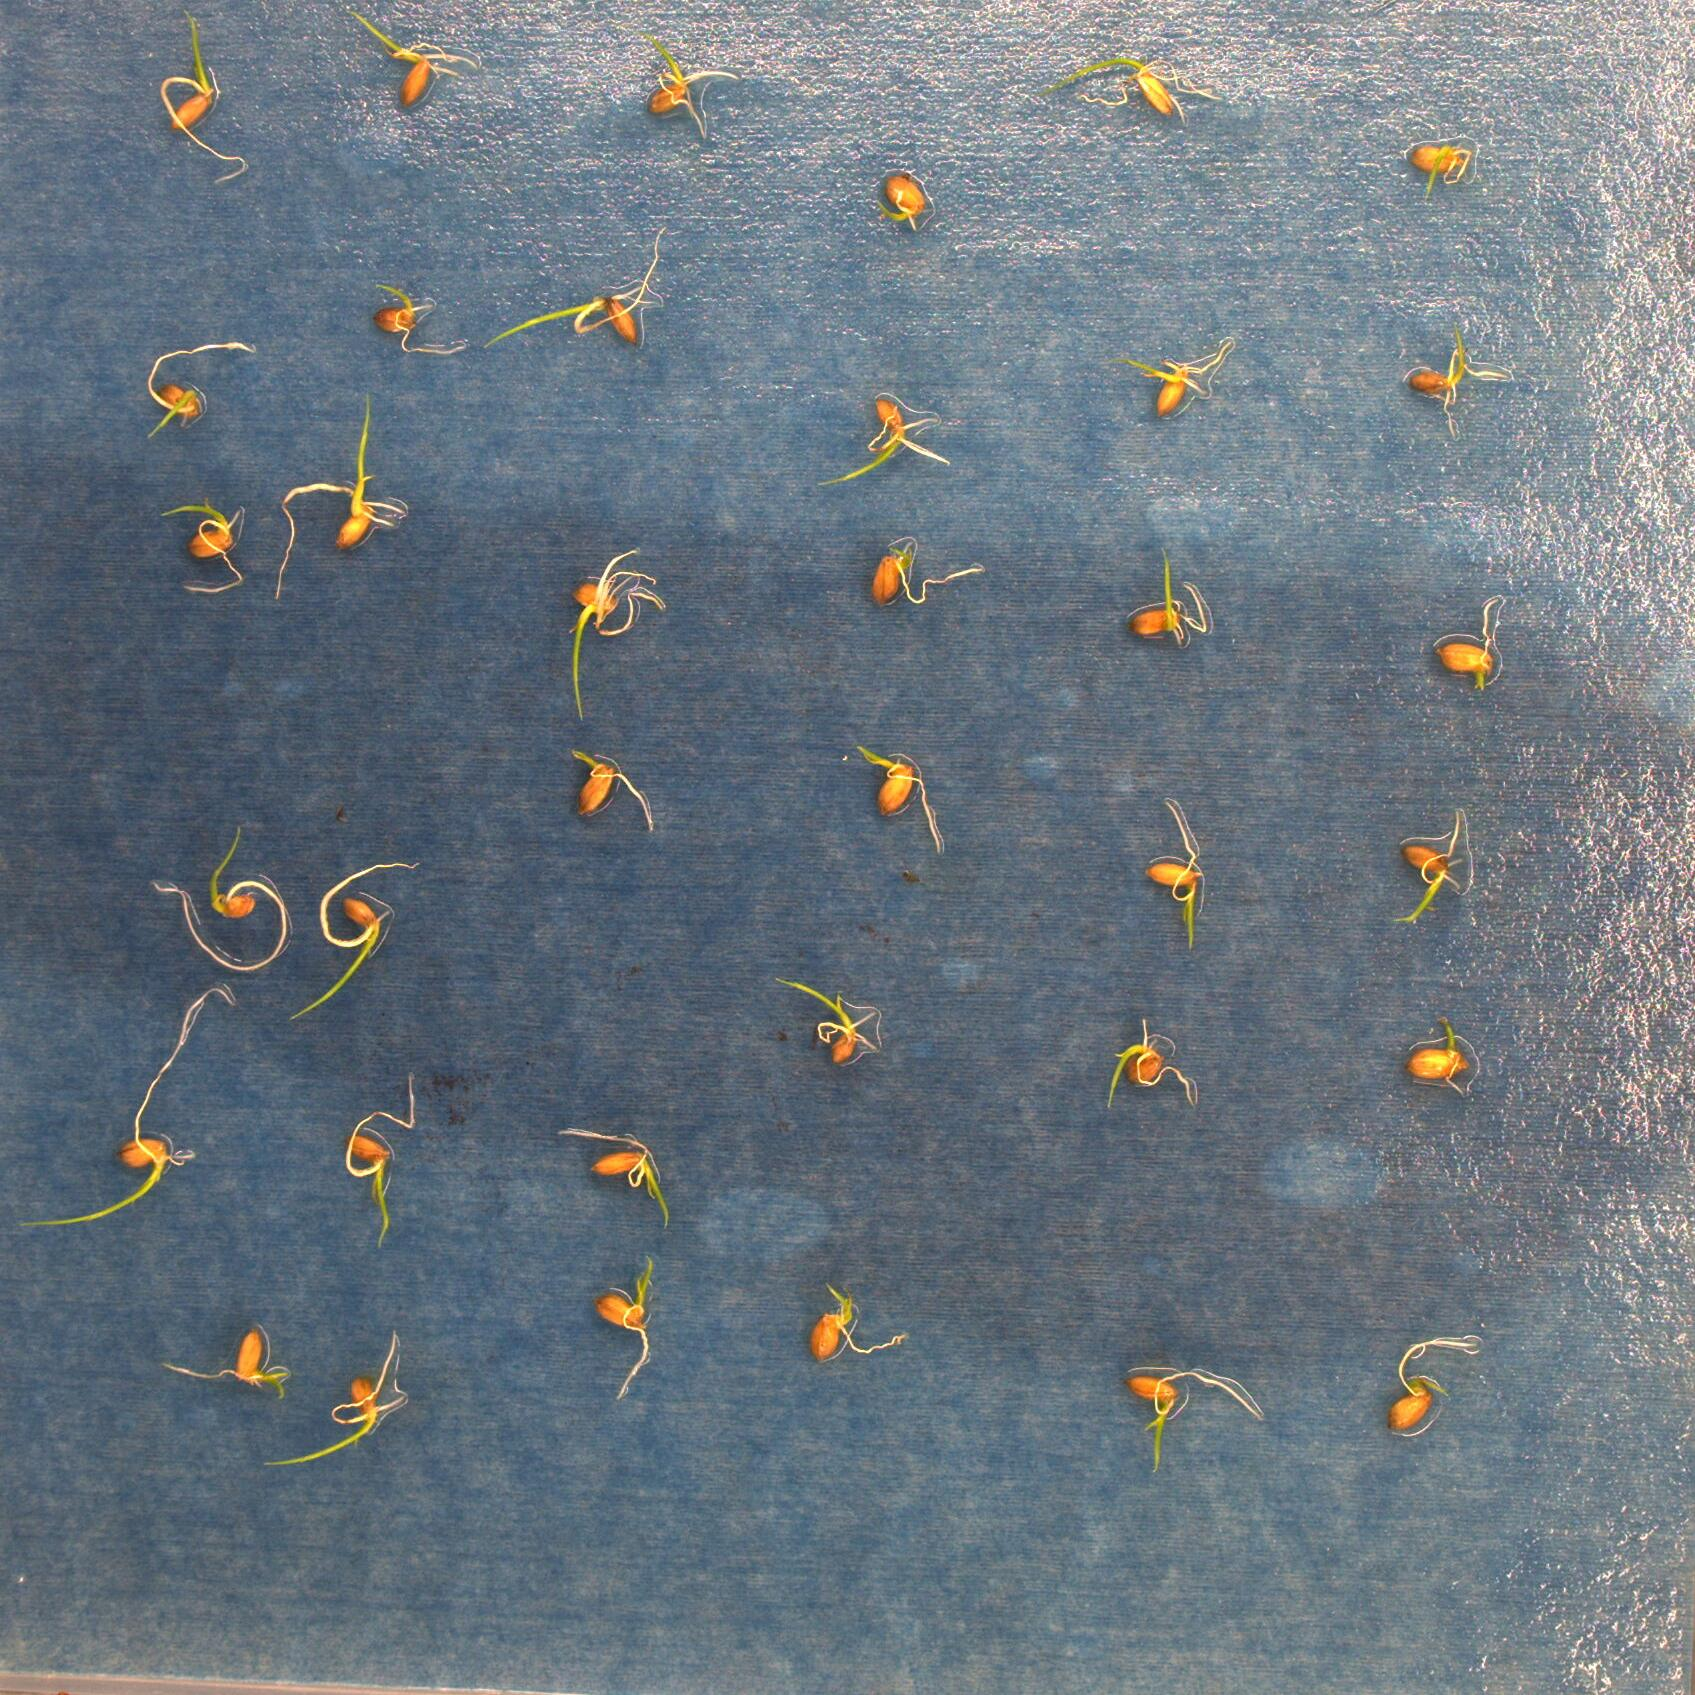not sprout: (1428, 594, 1504, 683)
sprout: (12, 987, 230, 1226), (272, 393, 404, 599), (258, 1329, 411, 1468), (289, 858, 424, 1015), (487, 224, 657, 348), (151, 830, 282, 967), (568, 543, 666, 717), (1124, 1366, 1268, 1478), (158, 12, 248, 186), (1406, 323, 1527, 433), (348, 9, 480, 110), (816, 391, 947, 484), (348, 1073, 414, 1250), (563, 1128, 674, 1229), (146, 338, 258, 435), (157, 1319, 289, 1399), (851, 747, 945, 854), (629, 39, 734, 133), (778, 973, 882, 1066), (152, 498, 247, 598), (1104, 1017, 1201, 1111), (588, 1257, 653, 1399), (1380, 1335, 1479, 1426), (806, 1277, 908, 1364), (1146, 801, 1205, 951), (1125, 338, 1234, 418), (866, 536, 984, 607), (1059, 61, 1191, 120), (1132, 546, 1211, 644), (1395, 810, 1465, 920), (570, 748, 657, 832), (373, 284, 467, 352), (1411, 1015, 1475, 1094), (1402, 137, 1471, 200), (863, 172, 925, 231)
